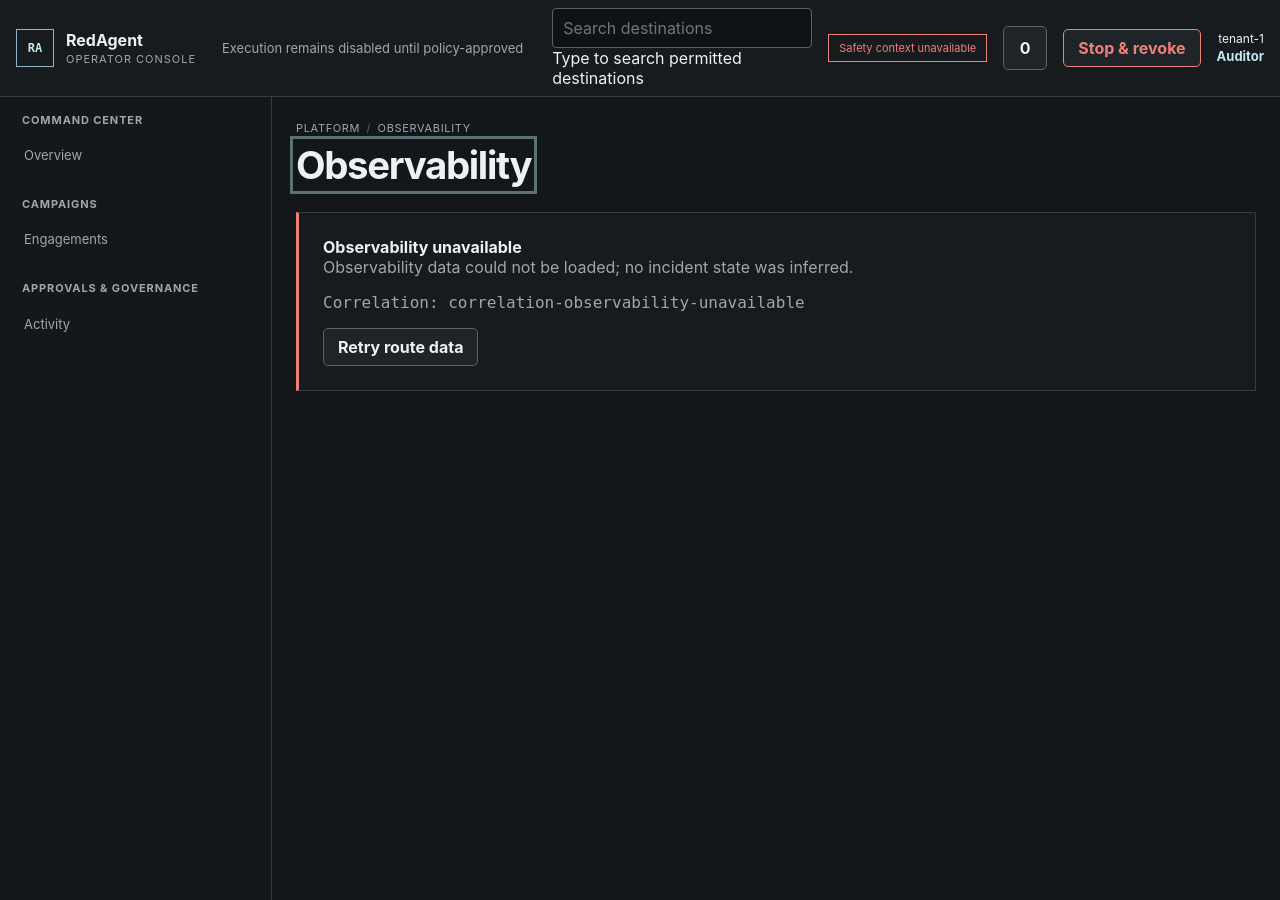
Test: renders observability correlation evidence and retries
This screenshot has width=1280, height=900.
Expected: the message "Observability unavailable" is shown, [296, 212, 1256, 391]
Expected: the text "Correlation: correlation-observability-unavailable" is shown, [323, 293, 805, 312]
Click the button "Retry route data" at (401, 347), box [323, 328, 478, 366]
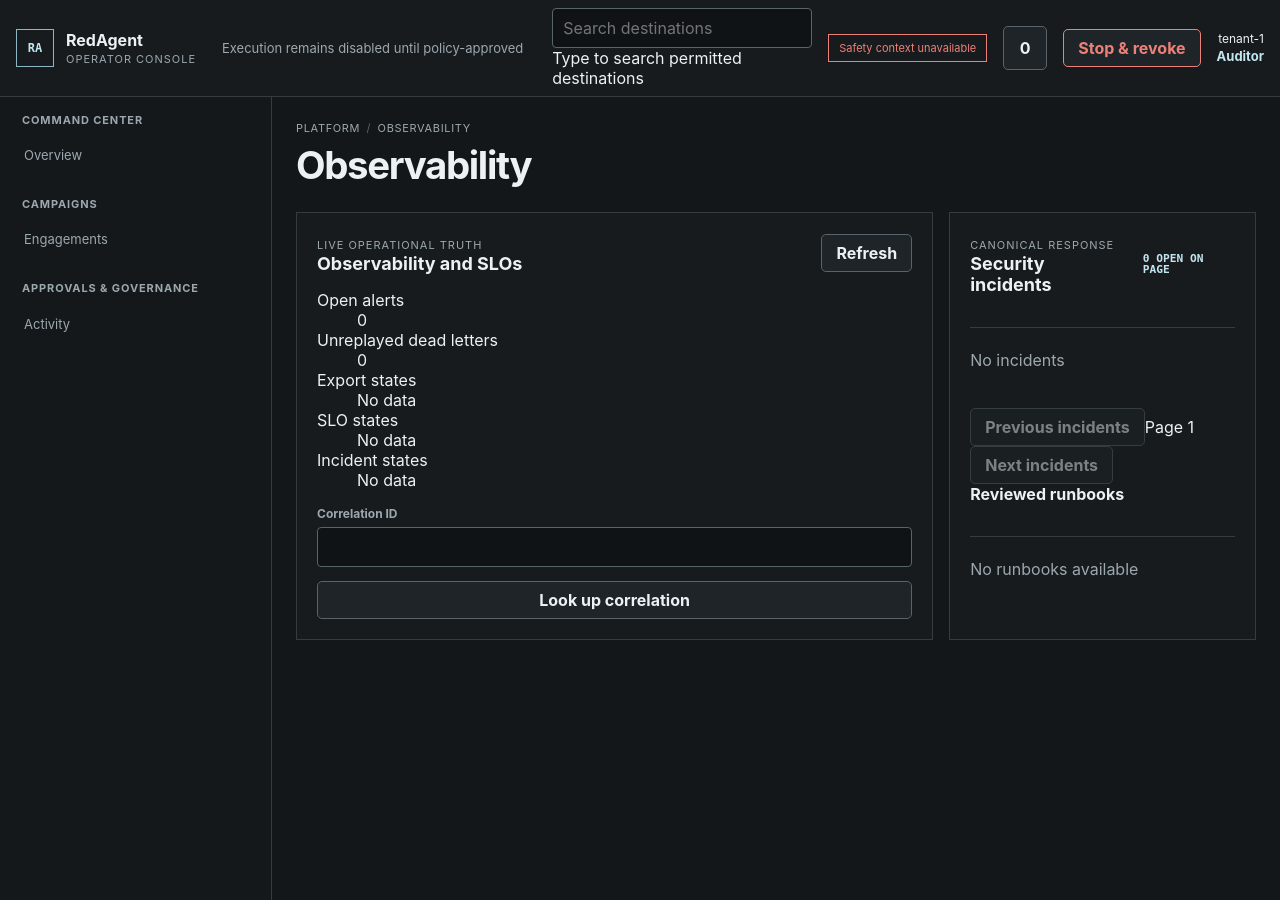
Expected: the text "No incidents" is shown, [970, 327, 1235, 392]
